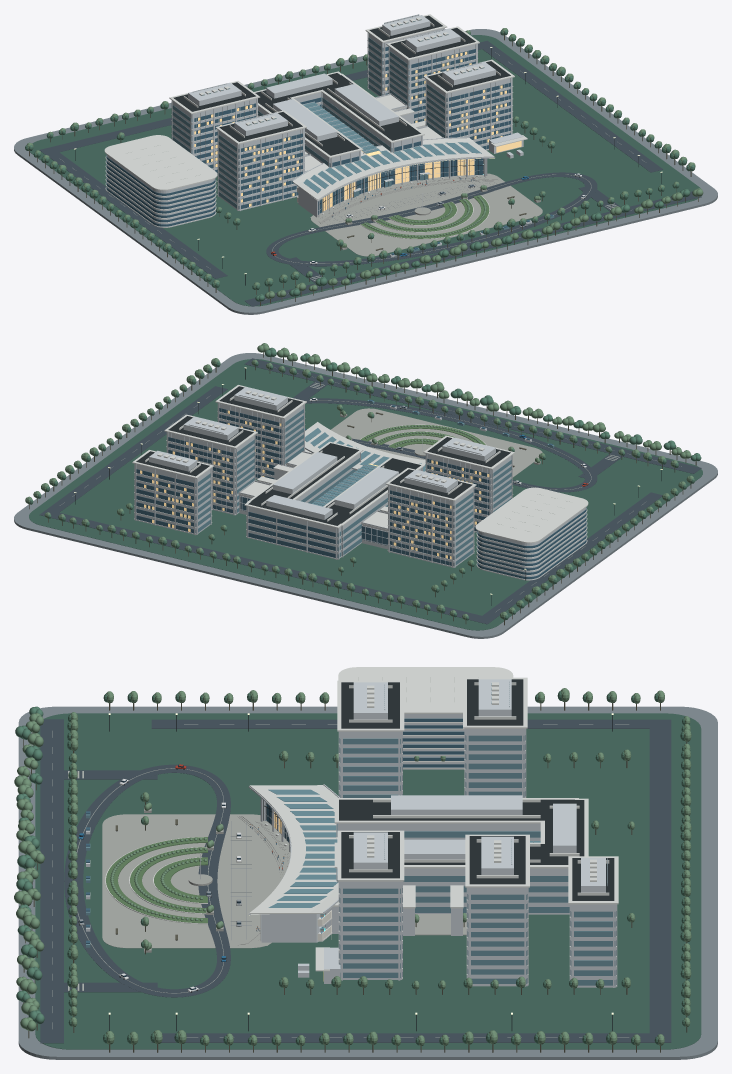
Rendered from tongji-current.glb.
The picture shows the model from 3 angles, top to bottom: view 1: azimuth 30°, elevation 25°; view 2: azimuth 150°, elevation 25°; view 3: azimuth 270°, elevation 25°; orthographic projection. The views are drawn at different scales.
Visible parts, largest first — view 1: environment_grass, environment_road, environment_pavement, environment_stone, inpatient_ivory, children_ivory, parking_roof, medtech_ivory, environment_leaf, children_glass, inpatient_glass, environment_leafLight (+30 smaller); view 2: environment_grass, environment_road, environment_pavement, inpatient_ivory, children_ivory, medtech_ivory, parking_roof, environment_leafLight, inpatient_glass, children_glass, environment_stone, CurrentRefine_environment_leafLight (+27 smaller); view 3: environment_grass, environment_road, environment_pavement, environment_stone, inpatient_ivory, environment_leafLight, medtech_ivory, inpatient_glassLight, children_ivory, parking_roof, children_glassLight, CurrentRefine_environment_leafLight (+25 smaller).
Boxes of the visible parts, bbox=[...] form: environment_grass: bbox=[30, 35, 701, 306]; environment_road: bbox=[39, 40, 701, 306]; environment_pavement: bbox=[14, 29, 717, 314]; environment_stone: bbox=[311, 173, 542, 256]; inpatient_ivory: bbox=[367, 15, 512, 150]; children_ivory: bbox=[171, 82, 304, 210]; parking_roof: bbox=[104, 135, 217, 227]; medtech_ivory: bbox=[258, 73, 422, 167]; environment_leaf: bbox=[25, 30, 695, 289]; children_glass: bbox=[192, 103, 302, 209]; inpatient_glass: bbox=[383, 46, 510, 149]; environment_leafLight: bbox=[27, 28, 695, 289]; environment_grass: bbox=[29, 359, 702, 630]; environment_road: bbox=[39, 358, 701, 624]; environment_pavement: bbox=[14, 353, 717, 638]; inpatient_ivory: bbox=[134, 387, 304, 534]; children_ivory: bbox=[388, 437, 512, 567]; medtech_ivory: bbox=[246, 452, 422, 559]; parking_roof: bbox=[475, 487, 588, 580]; environment_leafLight: bbox=[25, 358, 693, 620]; inpatient_glass: bbox=[136, 408, 282, 533]; children_glass: bbox=[390, 458, 490, 565]; environment_stone: bbox=[331, 408, 542, 477]; CurrentRefine_environment_leafLight: bbox=[257, 343, 691, 462]; environment_grass: bbox=[35, 713, 701, 1049]; environment_road: bbox=[40, 719, 671, 1043]; environment_pavement: bbox=[18, 706, 717, 1059]; environment_stone: bbox=[102, 814, 274, 948]; inpatient_ivory: bbox=[338, 832, 617, 987]; environment_leafLight: bbox=[70, 688, 691, 1045]; medtech_ivory: bbox=[336, 795, 576, 914]; inpatient_glassLight: bbox=[340, 888, 615, 985]; children_ivory: bbox=[338, 679, 526, 797]; parking_roof: bbox=[338, 667, 513, 768]; children_glassLight: bbox=[340, 735, 524, 797]; CurrentRefine_environment_leafLight: bbox=[14, 713, 223, 1031].
Size of the model in its own units: 346 by 52.5 by 294.
